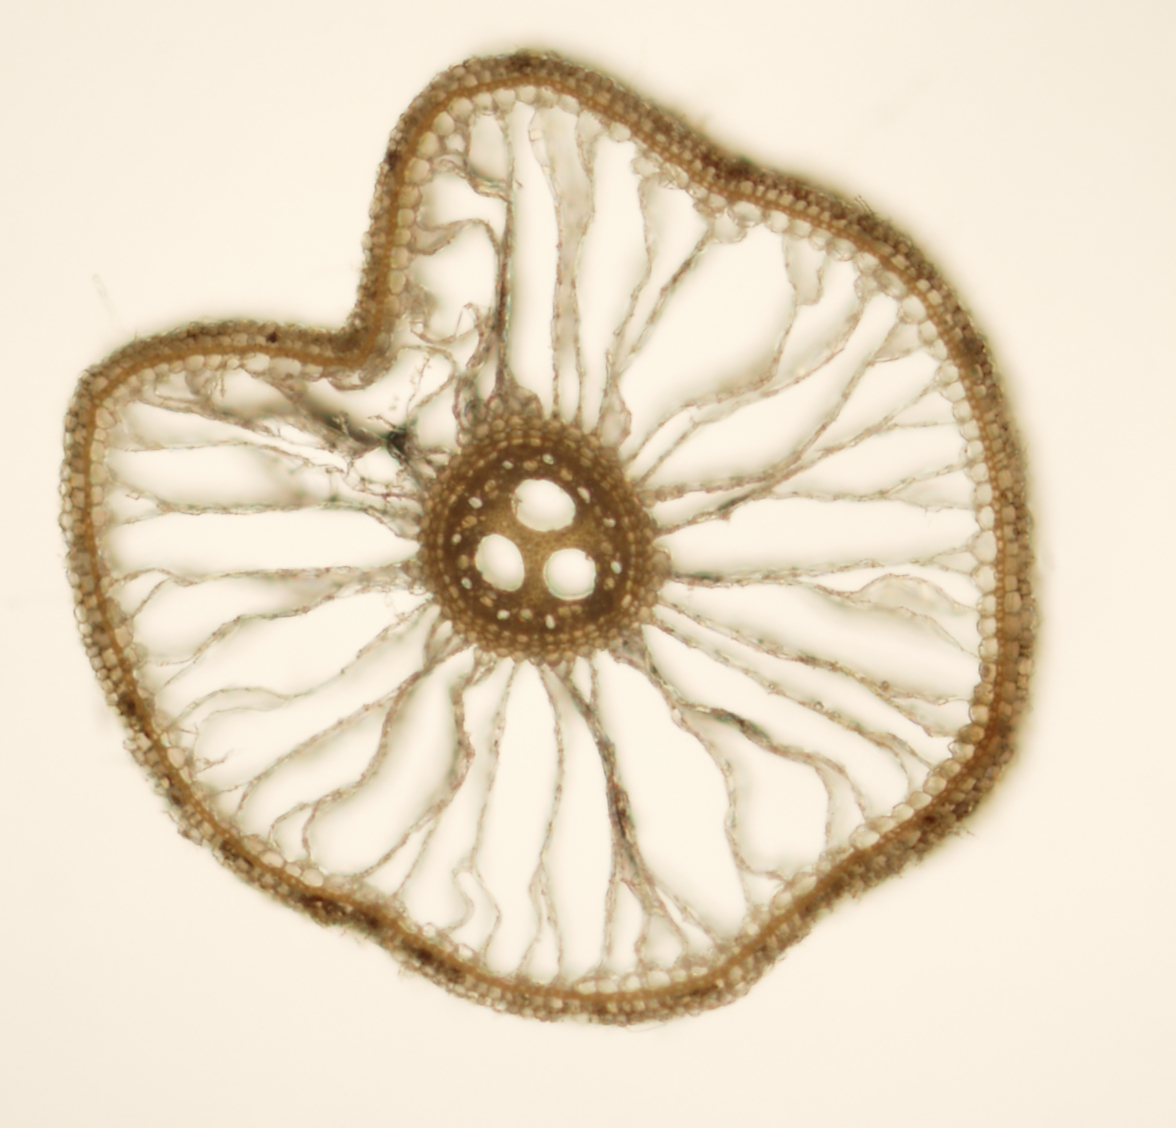lm: (510, 478, 575, 532), (474, 532, 524, 592), (541, 548, 596, 601)
